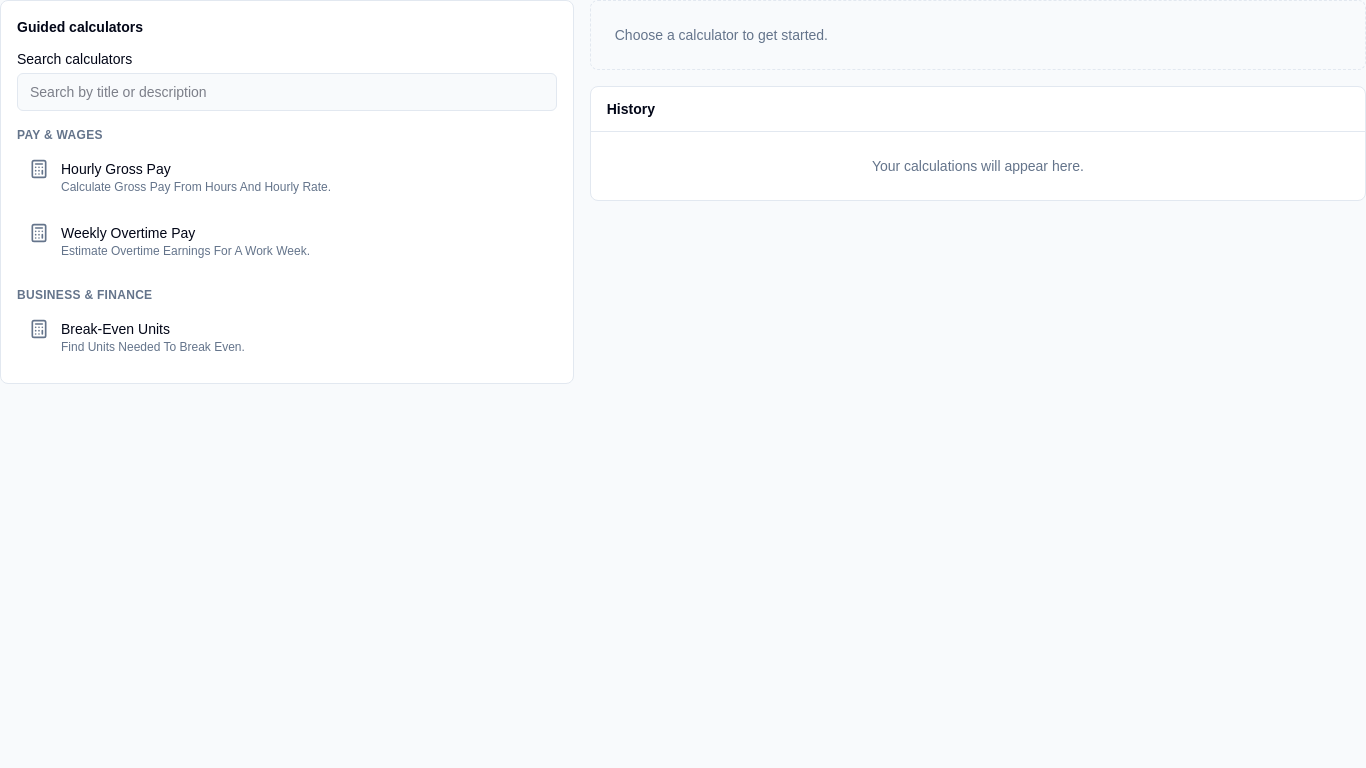
MhdGuidedCalculator › shows evaluator errors inline
Click the button "Break-even Units Find units needed to break even." at (115, 329), box [17,307,557,367]
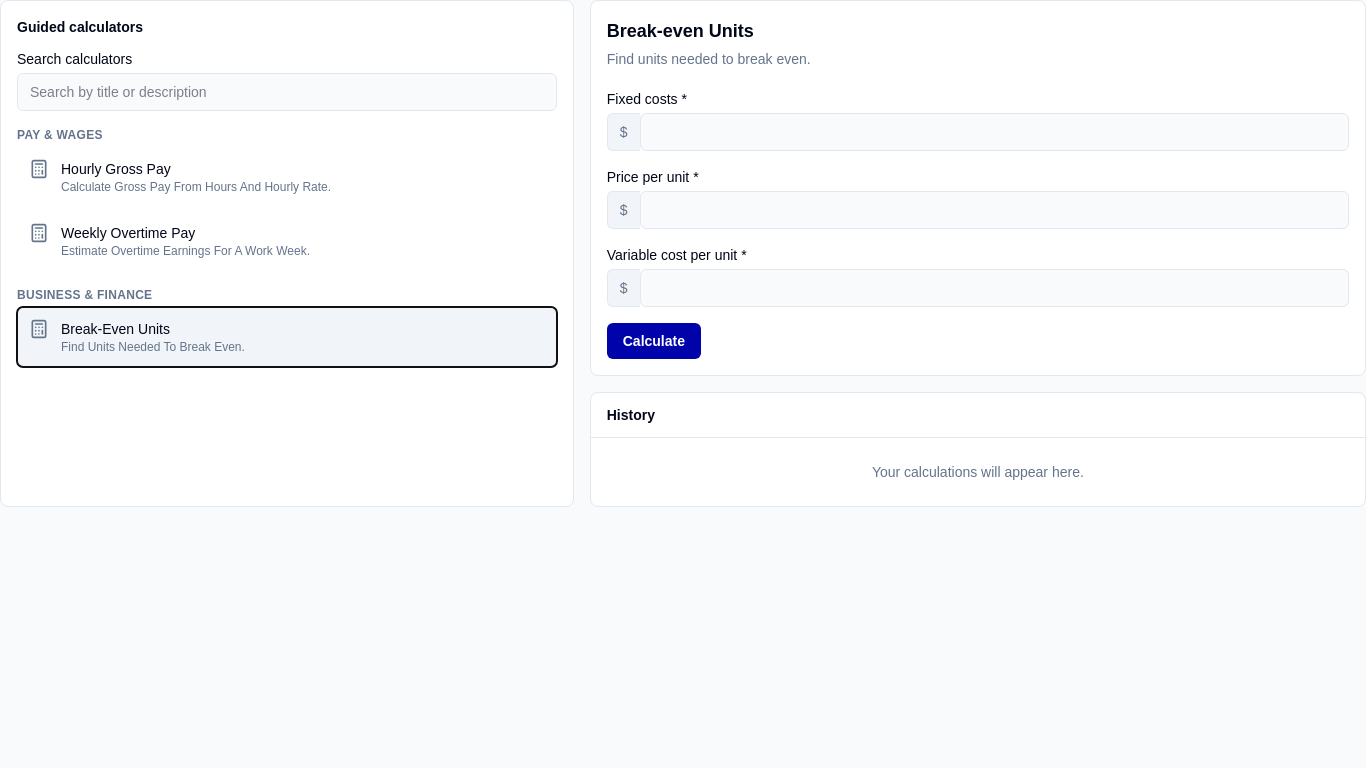
Type "100" into the number field labelled "Fixed costs*" at (994, 132), box [640,113,1349,151]
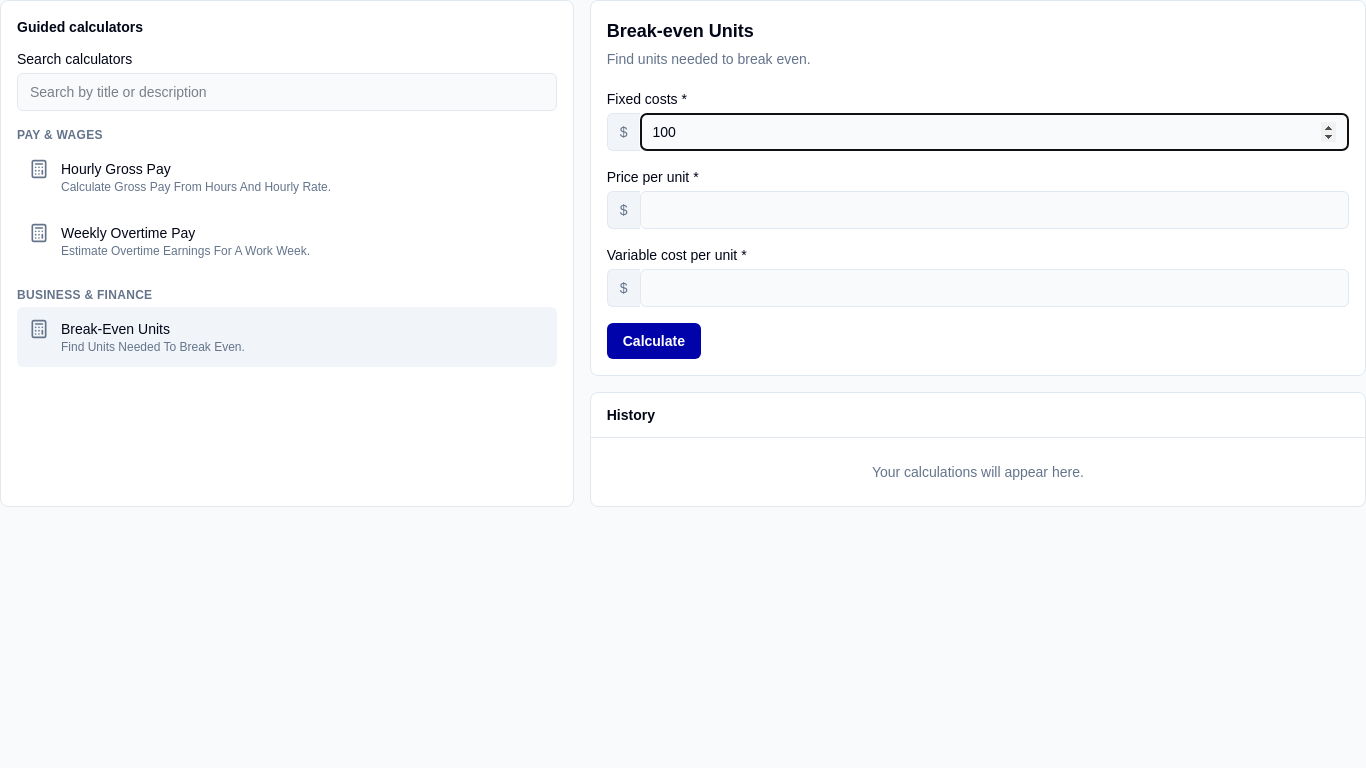
Type "10" into the number field labelled "Price per unit*" at (994, 210), box [640,191,1349,229]
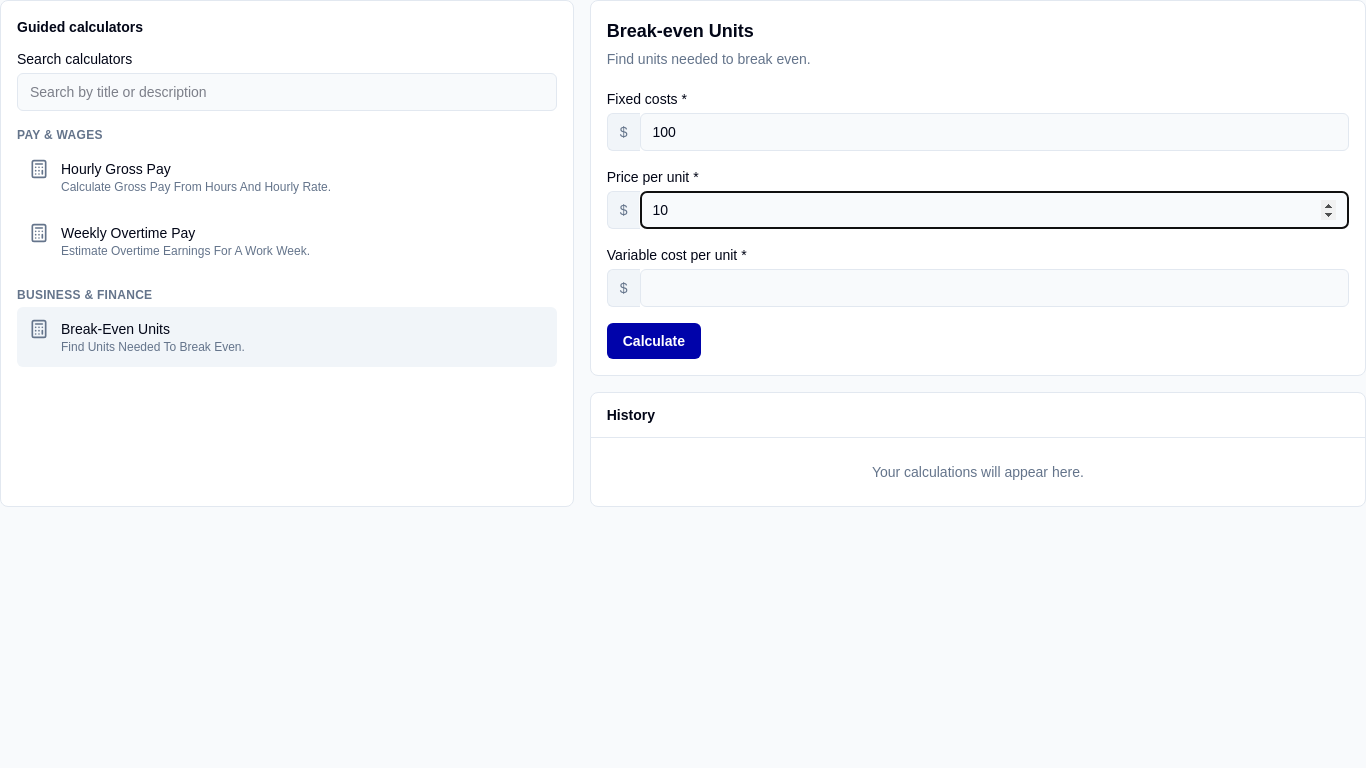
Type "10" into the number field labelled "Variable cost per unit*" at (994, 288), box [640,269,1349,307]
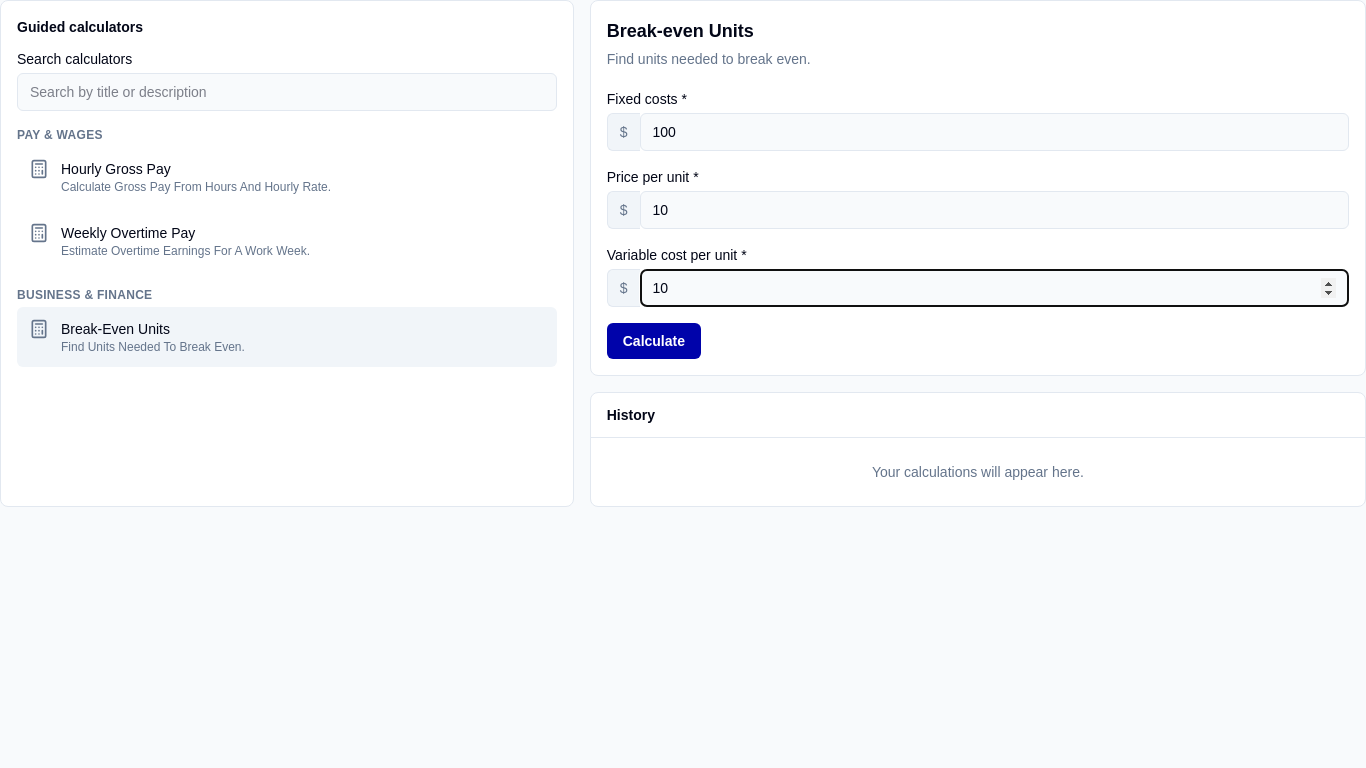
Click the button "Calculate" at (654, 341), box [607,323,701,359]
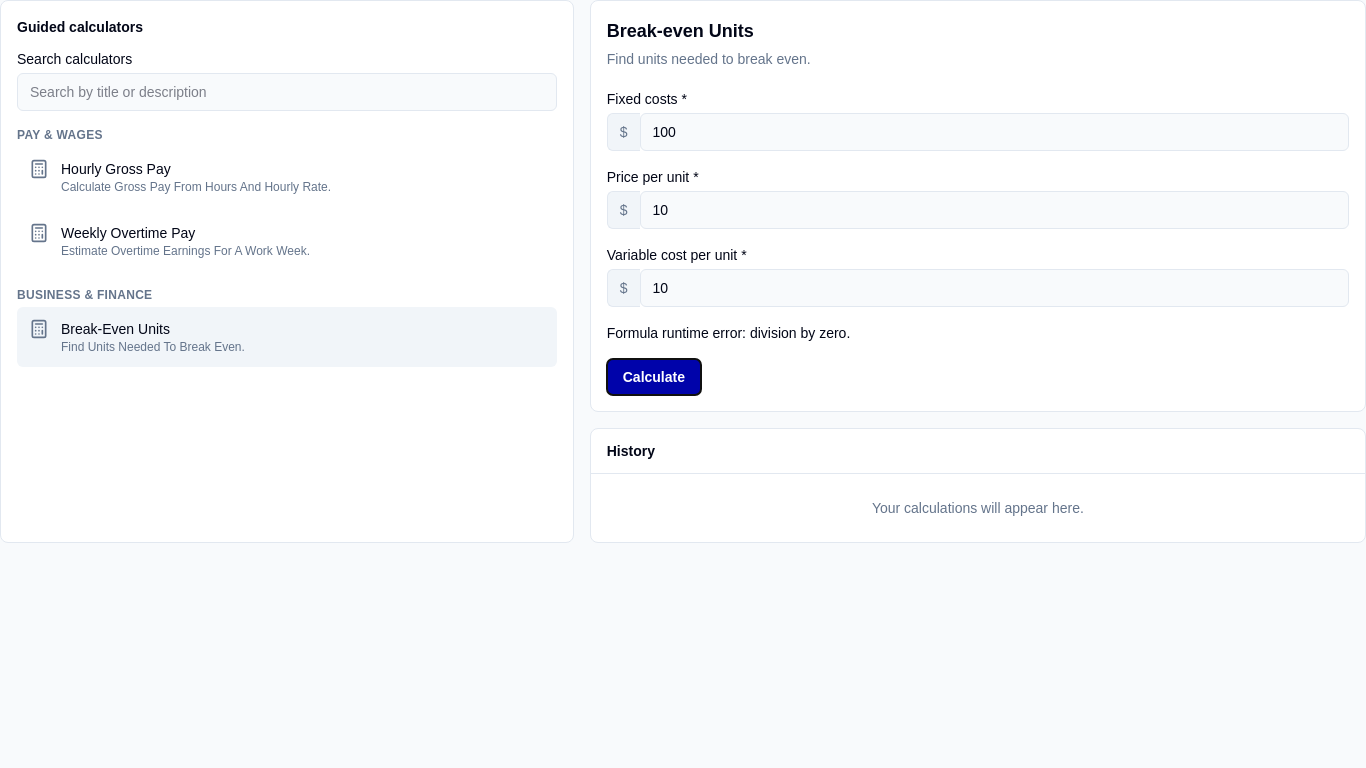
expect the message shows "division by zero": met, box [607,325,850,341]
